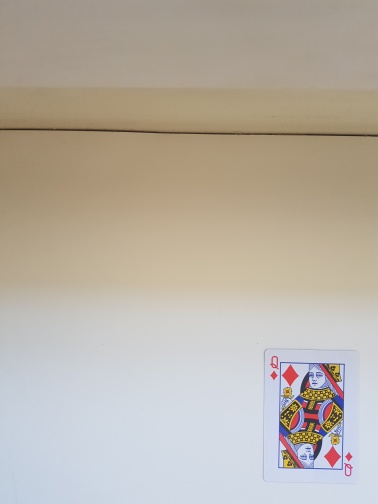queen: (261, 347, 361, 483)
